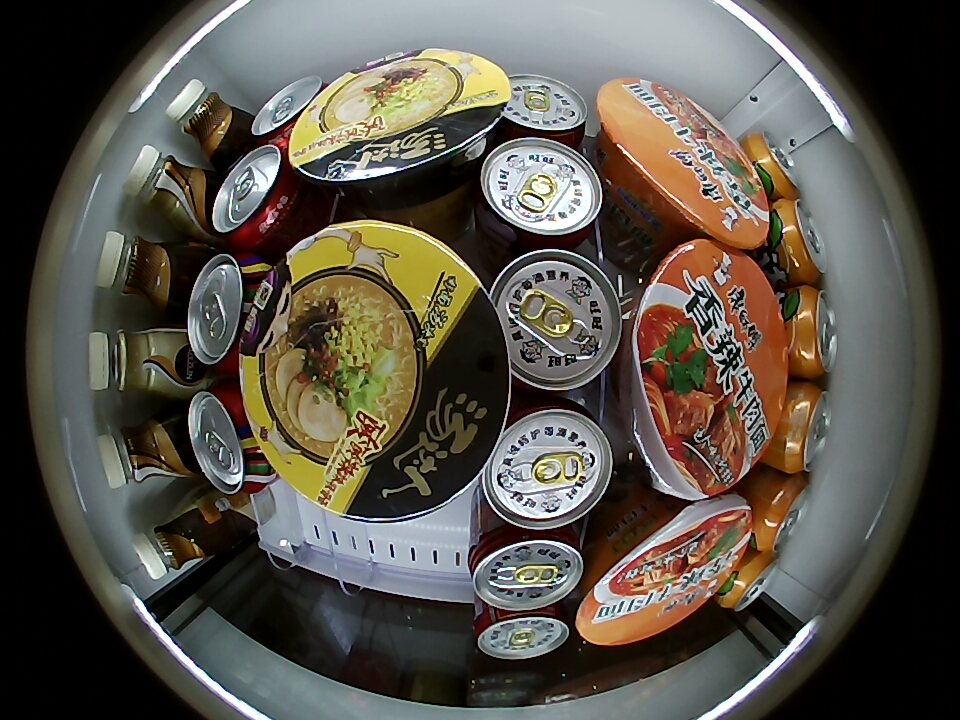fenda: (774, 382, 832, 473), (752, 474, 812, 552), (773, 198, 827, 284), (788, 286, 838, 378), (746, 131, 801, 200), (720, 549, 779, 612)
kafei: (123, 145, 215, 234), (96, 232, 193, 311), (97, 414, 192, 488), (86, 327, 184, 397), (165, 80, 246, 161), (131, 504, 218, 578)
kele: (186, 253, 273, 367), (211, 143, 304, 249), (187, 382, 268, 495), (251, 76, 327, 145)
tangdaren2: (242, 220, 503, 526), (288, 47, 509, 209)
wangzainiunai: (492, 249, 624, 392), (481, 397, 614, 529), (476, 137, 604, 251), (468, 519, 585, 611), (499, 73, 589, 149), (473, 598, 571, 661)
xianglaniurou: (630, 240, 784, 500), (597, 77, 769, 247), (578, 497, 753, 646)
